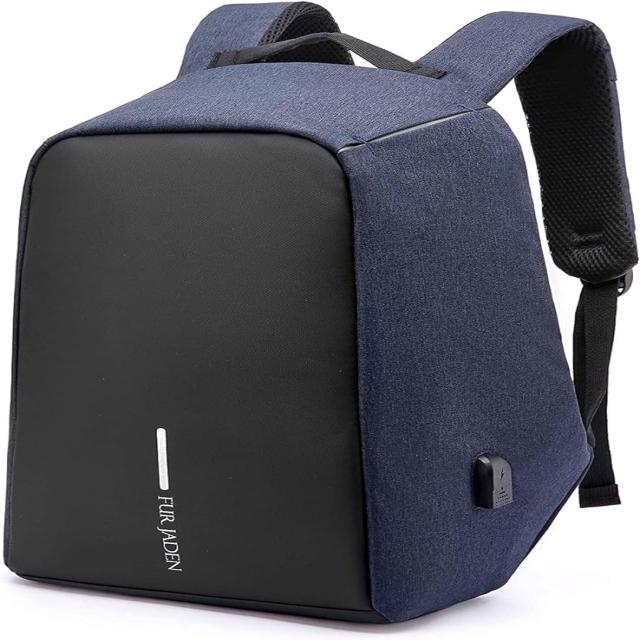backpack: (5, 2, 637, 625)
